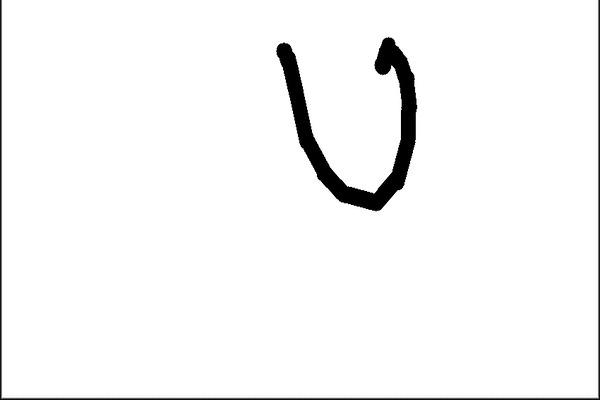U: (259, 21, 427, 213)
